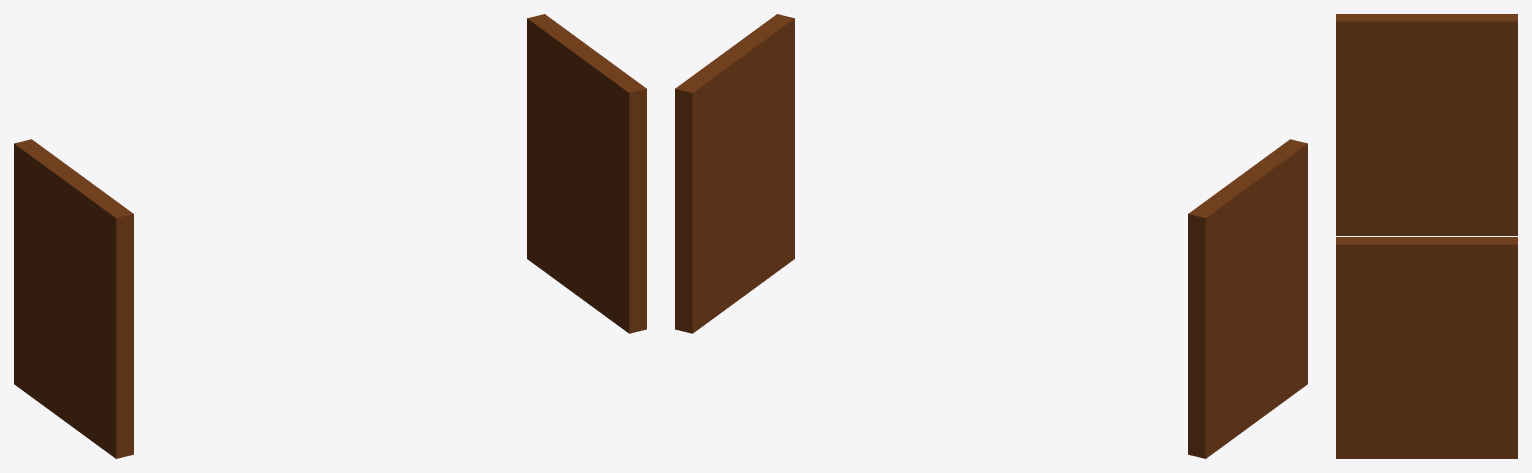
Rendered from MIDDLE_CENTRE.obj.
The picture shows the model from 3 angles, left to right: view 1: azimuth 30°, elevation 25°; view 2: azimuth 150°, elevation 25°; view 3: azimuth 270°, elevation 25°; orthographic projection. The views are drawn at different scales.
Size of the model in its own units: 6 by 2.6 by 2.
